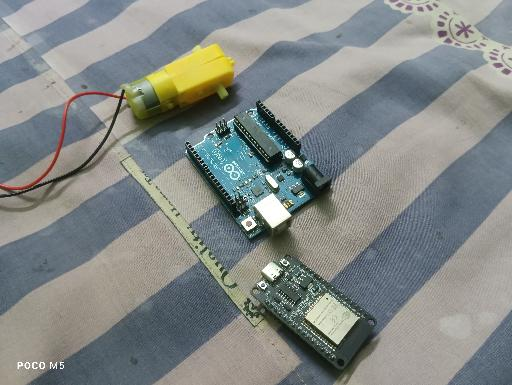Arduino: (184, 100, 331, 241)
Esp32: (251, 253, 377, 371)
Motor: (125, 43, 236, 121)
